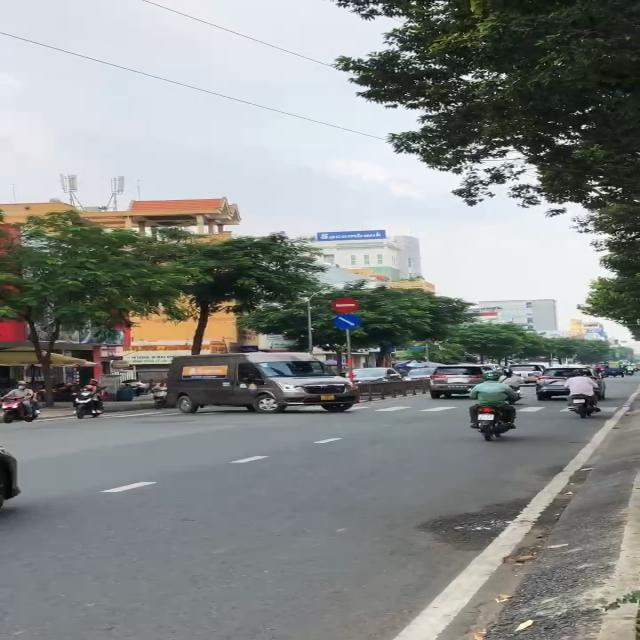Bien bao cam di nguoc chieu: (328, 296, 360, 312)
Bien bao huong phai di vong chuong ngai vat: (328, 314, 368, 331)
